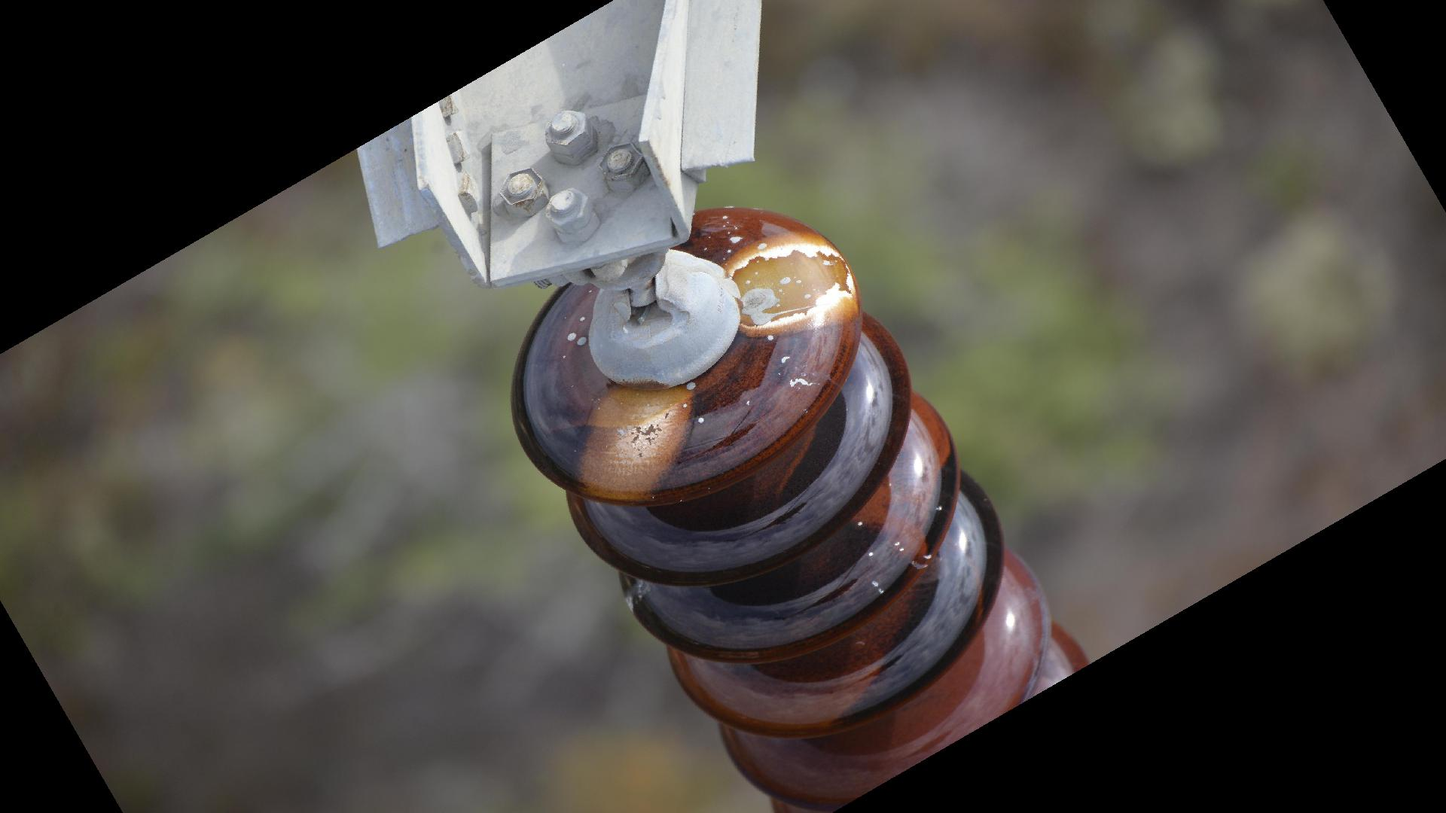insulator: (505, 200, 1100, 813)
insulator_flashover: (569, 373, 699, 508), (725, 222, 861, 341)
